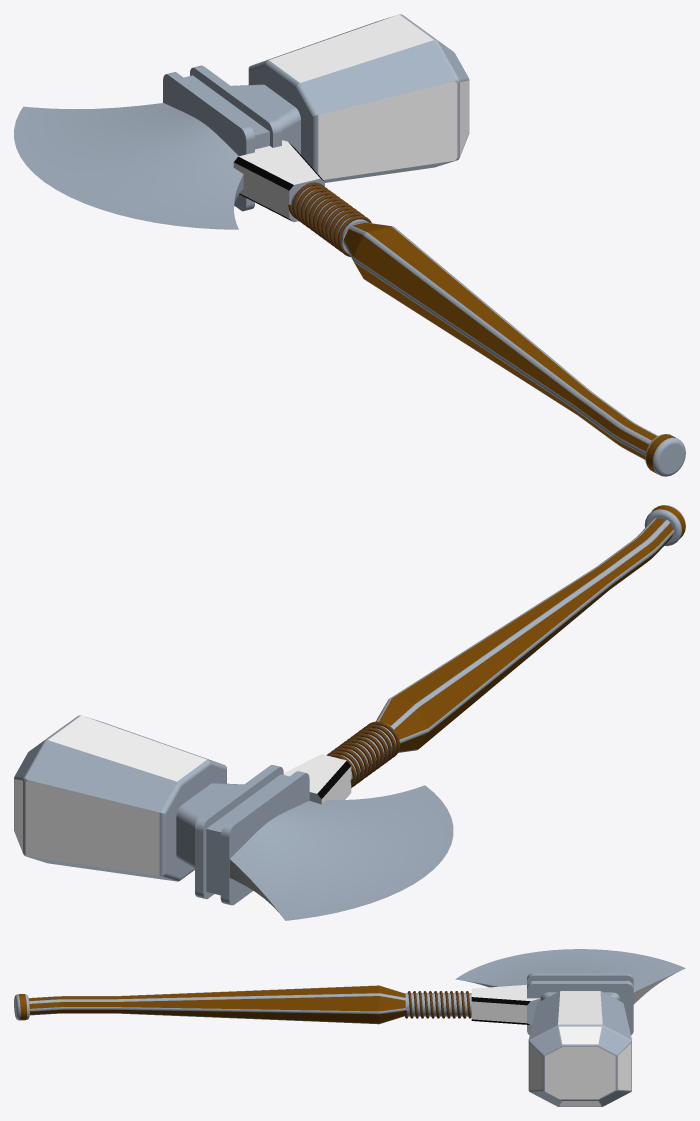
The model's file is stormbreaker.glb.
The picture shows the model from 3 angles, top to bottom: view 1: azimuth 30°, elevation 25°; view 2: azimuth 150°, elevation 25°; view 3: azimuth 270°, elevation 25°; orthographic projection. The views are drawn at different scales.
Parts seen in each view (by area): view 1: prakhar_shrivastava.prt; view 2: prakhar_shrivastava.prt; view 3: prakhar_shrivastava.prt.
Part boxes in pixels (x1=…): prakhar_shrivastava.prt: x1=14, y1=14, x2=685, y2=476; prakhar_shrivastava.prt: x1=14, y1=505, x2=685, y2=920; prakhar_shrivastava.prt: x1=14, y1=949, x2=685, y2=1106.
Bounding box in the file's own units: 0.445 × 0.1368 × 1.02.
